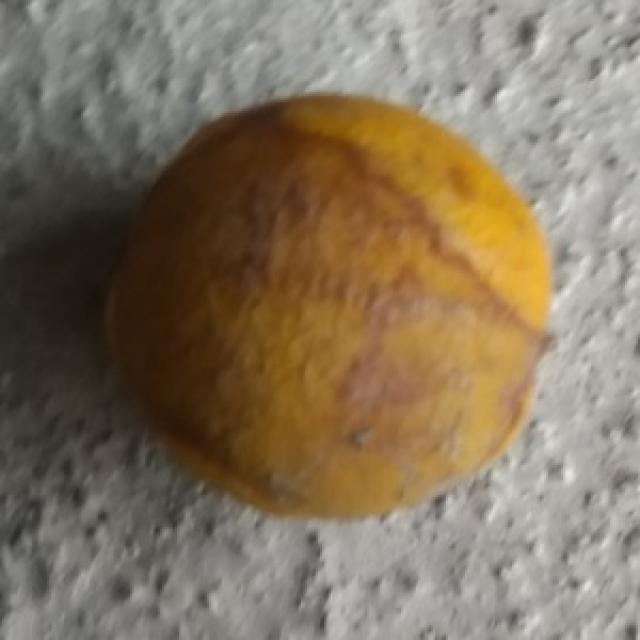overripe: (85, 87, 562, 525)
